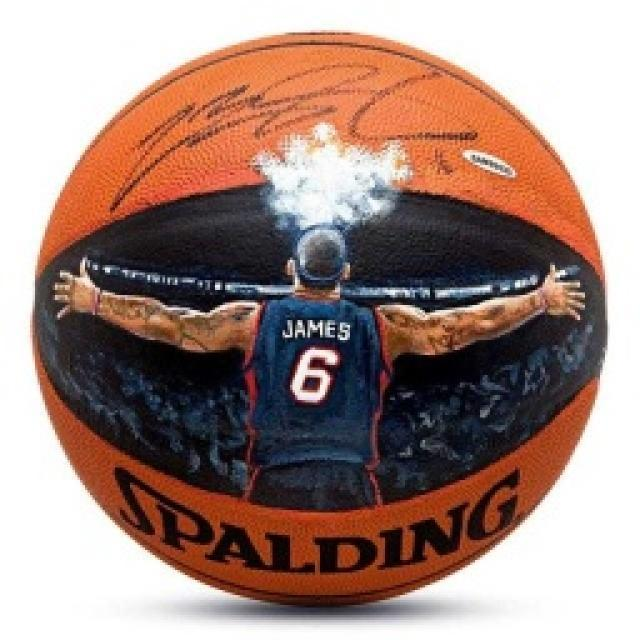rim: (17, 24, 616, 629)
